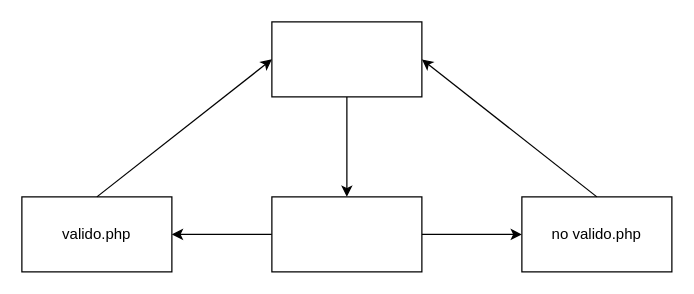
The diagram is 694 pixels wide and 294 high, and some of its shapes have lost their labels. The shapes that lost their labels are listed below. From the top down, each one's centre as x and y in pixels, then its label:
At (346,59): "ejercicio2.html".
At (346,234): "validar.php".
